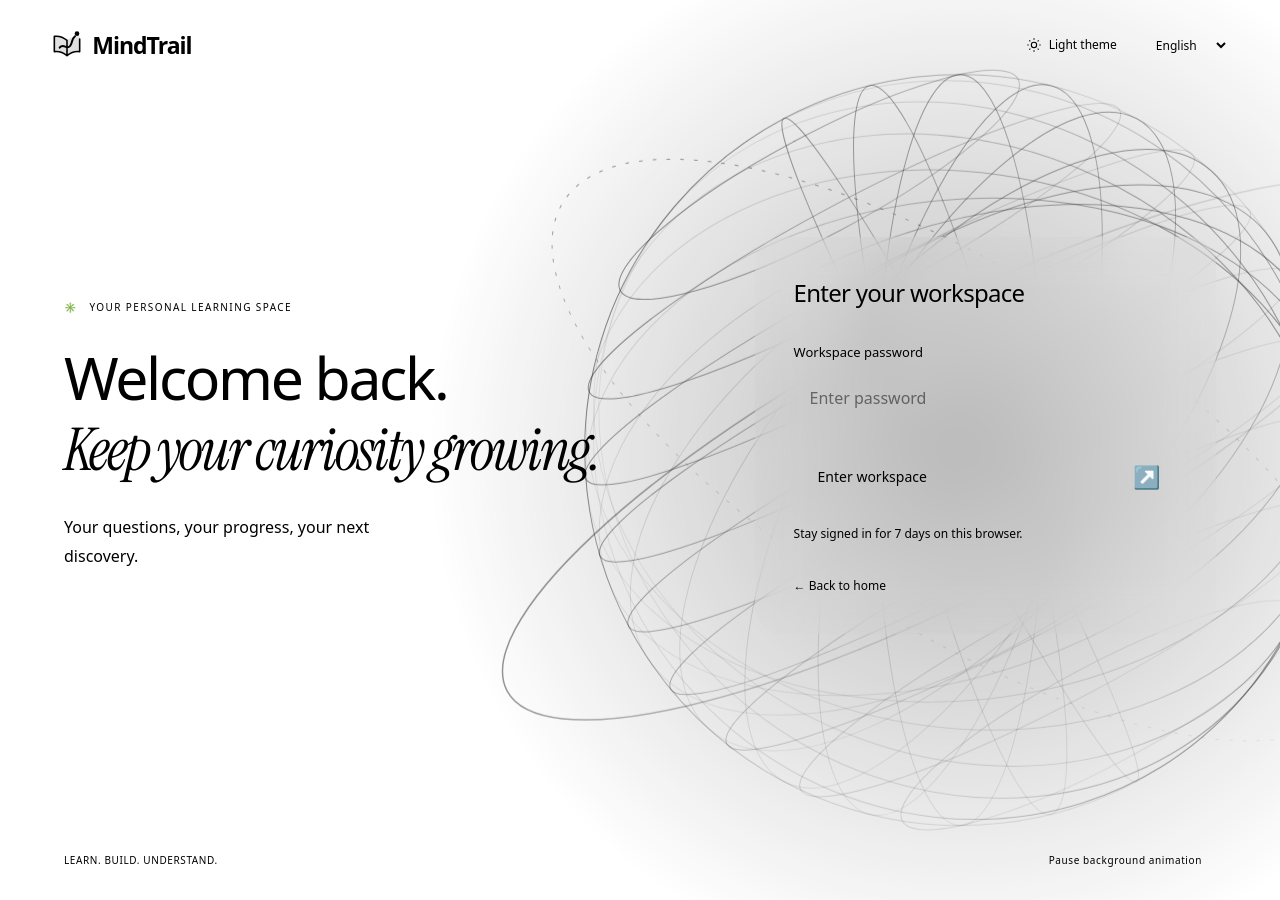
Scenario: handles sign-in error 401 without exposing internal messages
Type "test-password" into the password field labelled "Workspace password".
click(986, 398); type("test-password")  # box [794,372,1178,424]
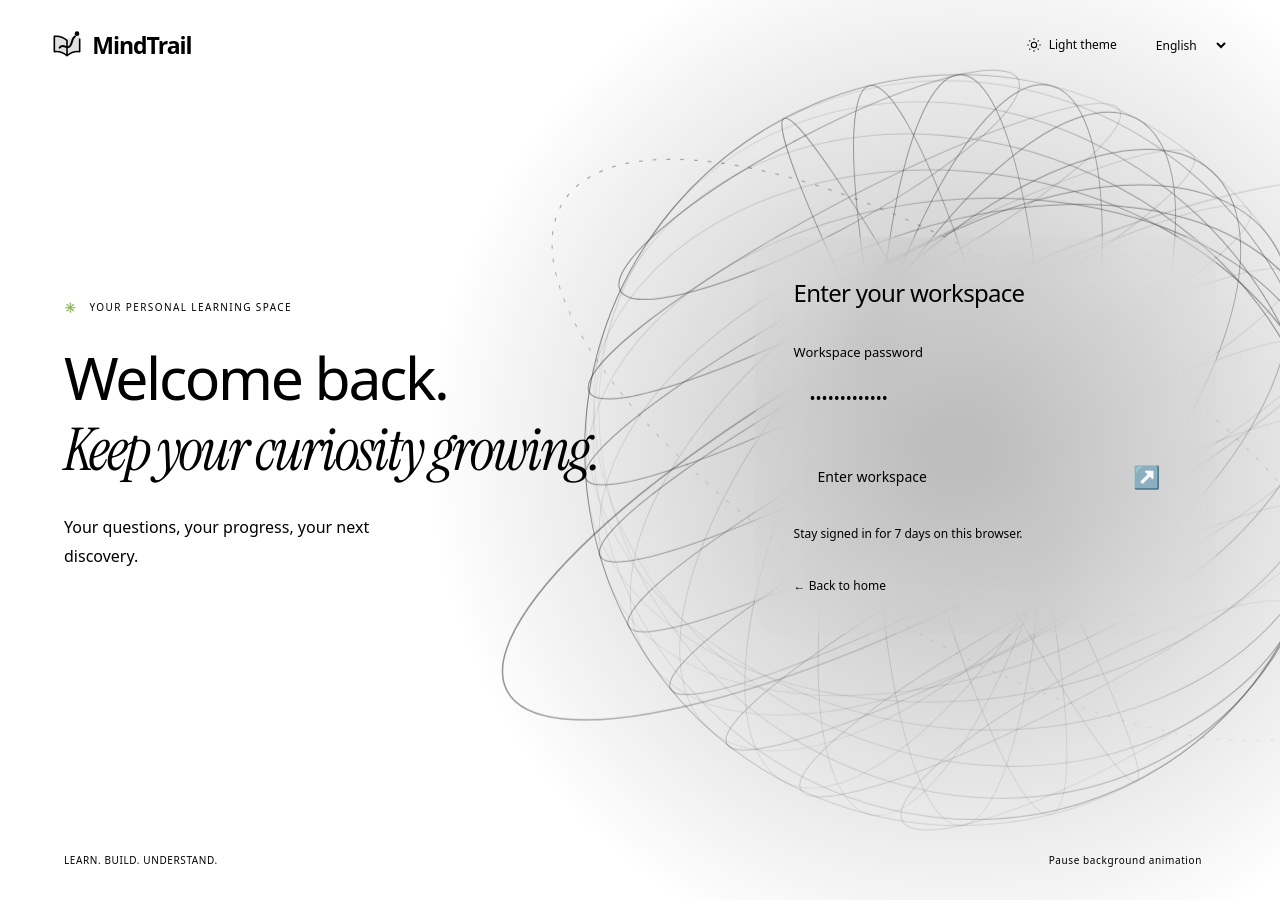
Click the button "Enter workspace ↗".
click(872, 477)  # box [794,446,1178,508]
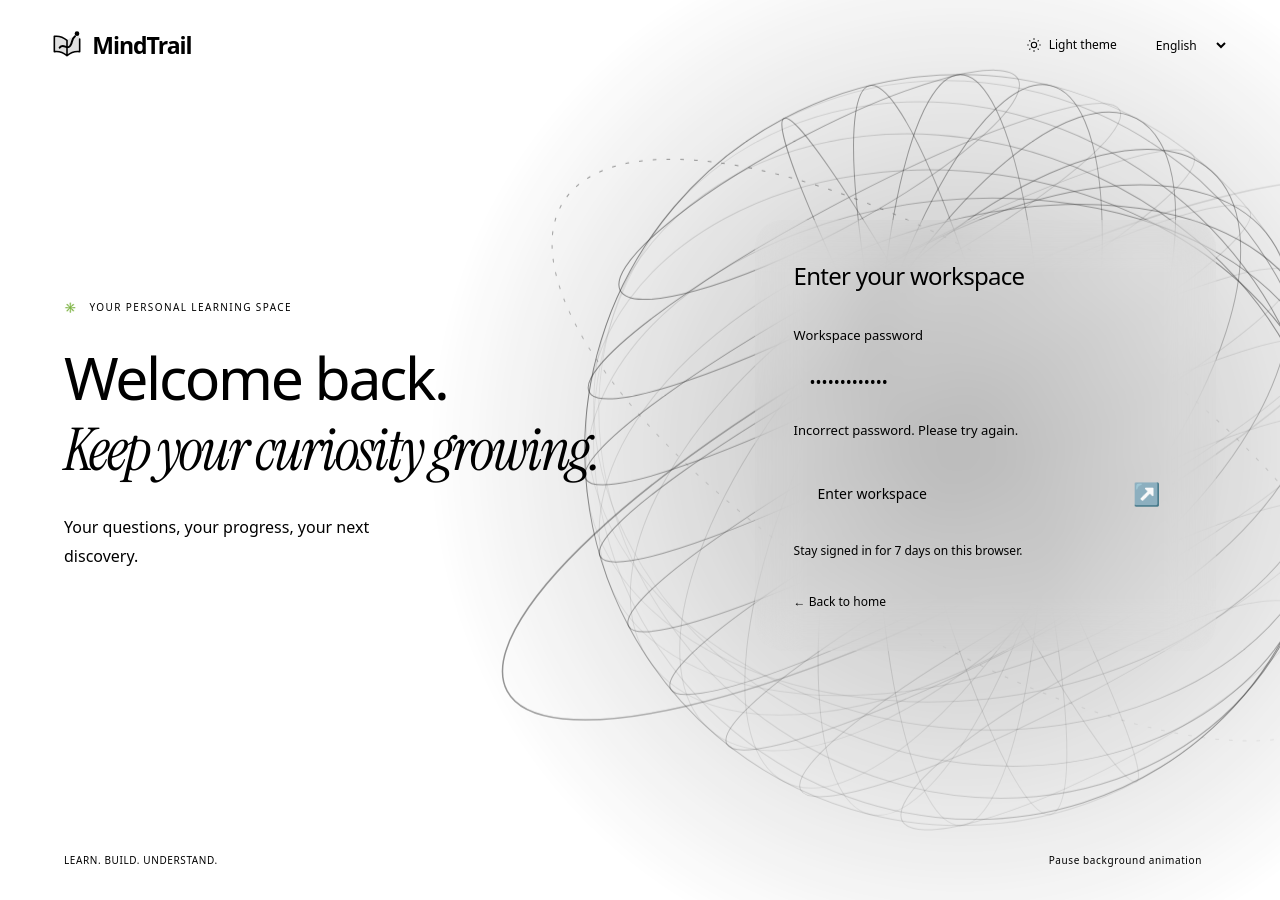
Check: the button "Enter workspace ↗" is enabled, box [794,463,1178,524]
Check: the message reads "Incorrect password. Please try again.", box [794,421,1018,439]
